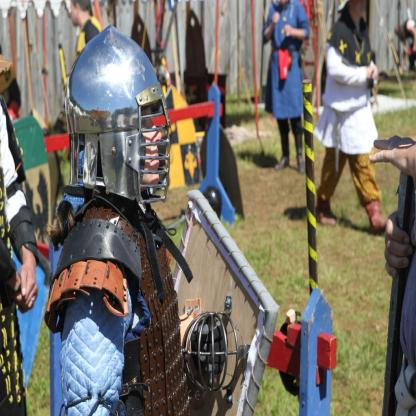Helmet: (58, 30, 175, 214)
